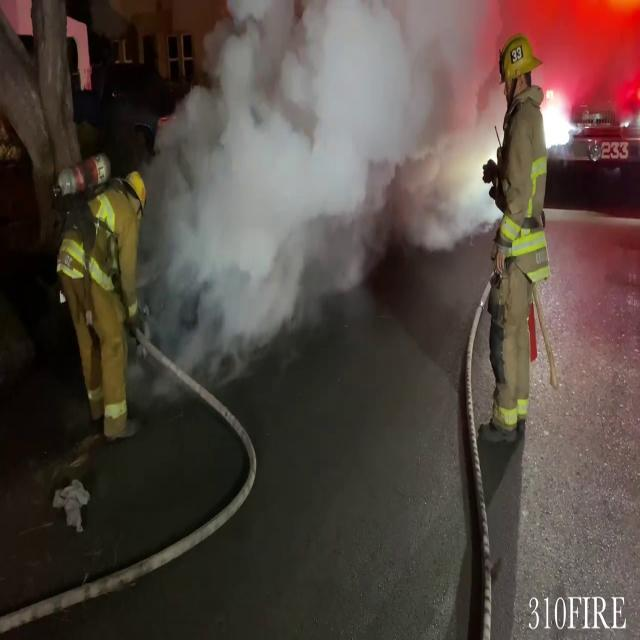Smoke: (151, 0, 503, 392)
